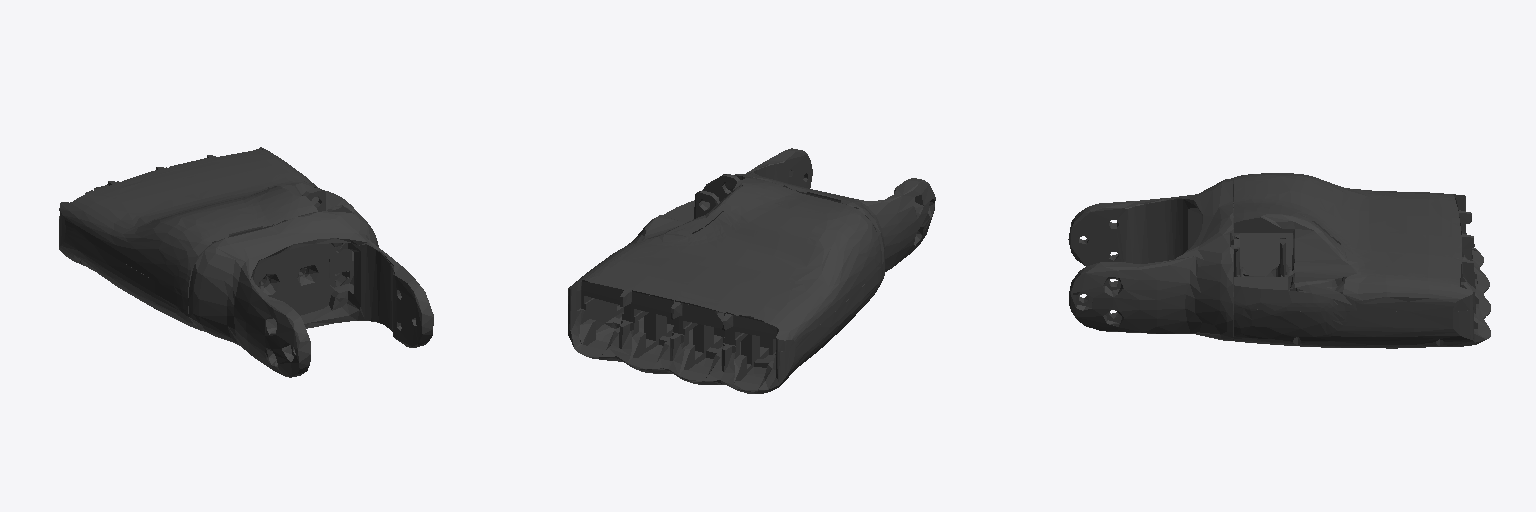
The model's file is inspire_Right_1.obj.
3 views of the same model, side by side, from view 1: azimuth 30°, elevation 25°; view 2: azimuth 150°, elevation 25°; view 3: azimuth 270°, elevation 25° (orthographic).
Bounding box in the file's own units: 0.0815 × 0.0414 × 0.1372.